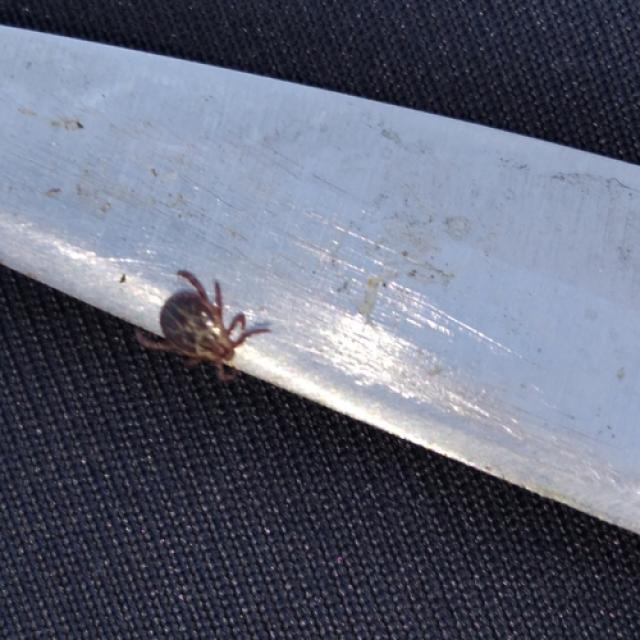Dermacentor Reticulatus-M: (134, 270, 270, 381)
